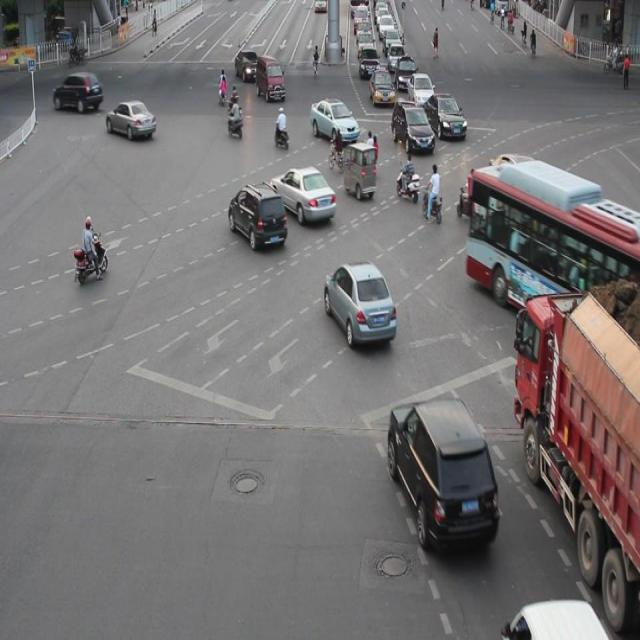bus: (514, 292, 640, 616)
car: (388, 397, 498, 549), (324, 259, 395, 345), (228, 182, 288, 249), (269, 165, 336, 223), (486, 152, 543, 205), (390, 99, 433, 153), (309, 98, 359, 144), (105, 99, 157, 142), (422, 92, 465, 139)
van: (465, 161, 640, 324)
